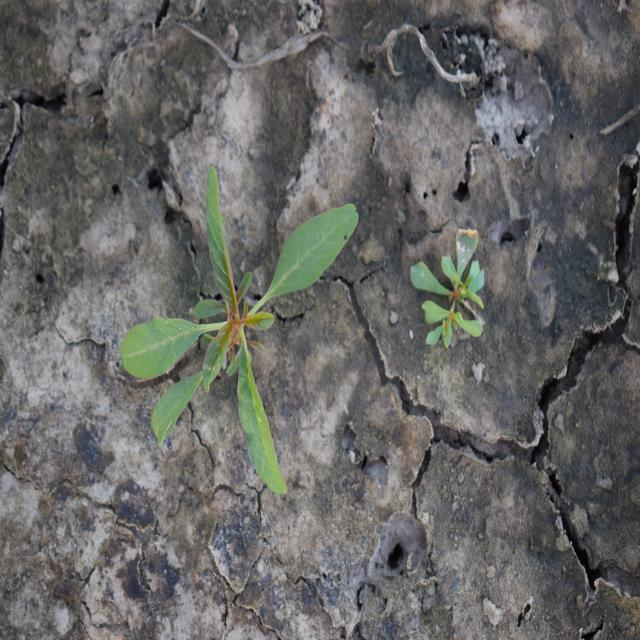Carpetweed: (408, 226, 486, 349)
Waterhemp: (120, 162, 360, 498)
